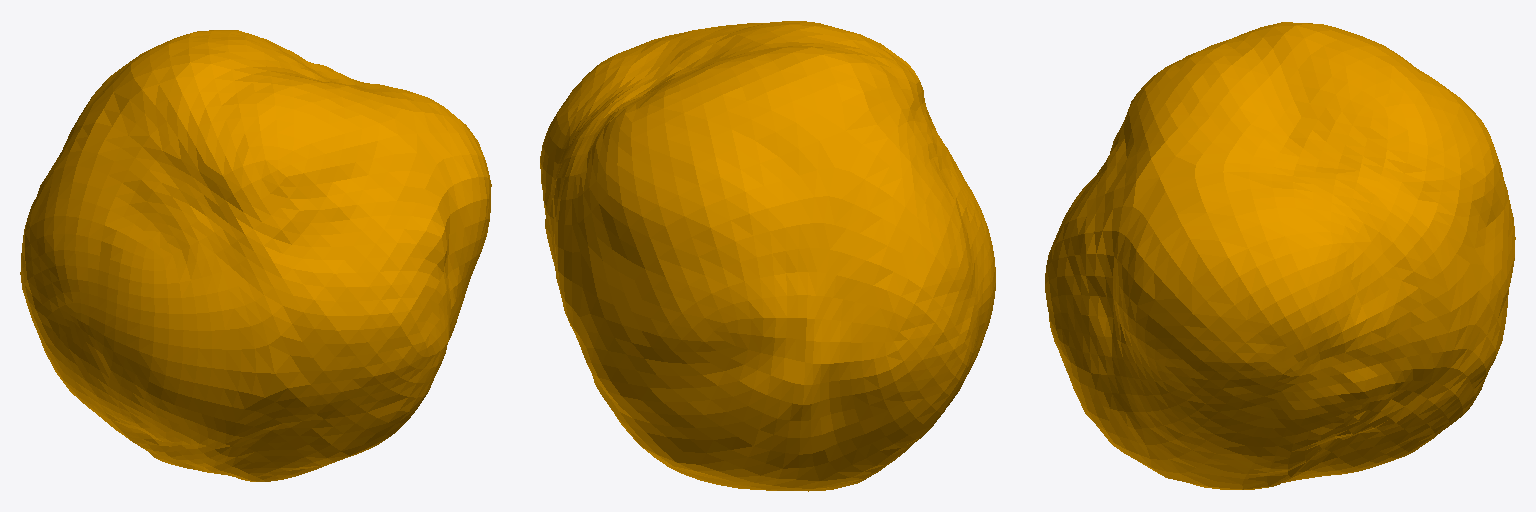
URDF robot description (rock):
<?xml version="1.0" ?>
<robot name="rock">
  <link name="rock">
    <inertial>
      <mass value="0.254"/>
      <origin rpy="0 0 0" xyz="0 0 0"/>
      <inertia ixx="0.000254" ixy="0" ixz="0" iyy="0.000254" iyz="0" izz="0.000254"/>
    </inertial>
    <collision name="rock_collision">
      <origin rpy="0 0 0" xyz="0 0 0"/>
      <geometry>
        <mesh filename="package://rocks/visual/243.dae" scale="1 1 1"/>
      </geometry>
    </collision>
    <visual name="rock_visual">
      <origin rpy="0 0 0" xyz="0 0 0"/>
      <geometry>
        <mesh filename="package://rocks/visual/243.dae" scale="1 1 1"/>
      </geometry>
    </visual>
  </link>
</robot>

--- Render facts (derived) ---
The picture shows the robot from 3 angles, left to right: view 1: azimuth 30°, elevation 25°; view 2: azimuth 150°, elevation 25°; view 3: azimuth 270°, elevation 25°; orthographic projection.
Model rock with 1 links and 0 joints (none), rooted at rock, posed every joint at zero.
Links seen in each view (by area): view 1: rock; view 2: rock; view 3: rock.
Boxes of the visible links, left/top/right/bottom form: rock: left=20, top=30, right=491, bottom=481; rock: left=540, top=21, right=995, bottom=491; rock: left=1045, top=22, right=1515, bottom=489.
Bounding box of the posed robot: 0.0651 × 0.0626 × 0.0629 m (x, y, z).
1 mesh visuals loaded from 1 distinct referenced files (1 Collada DAE).